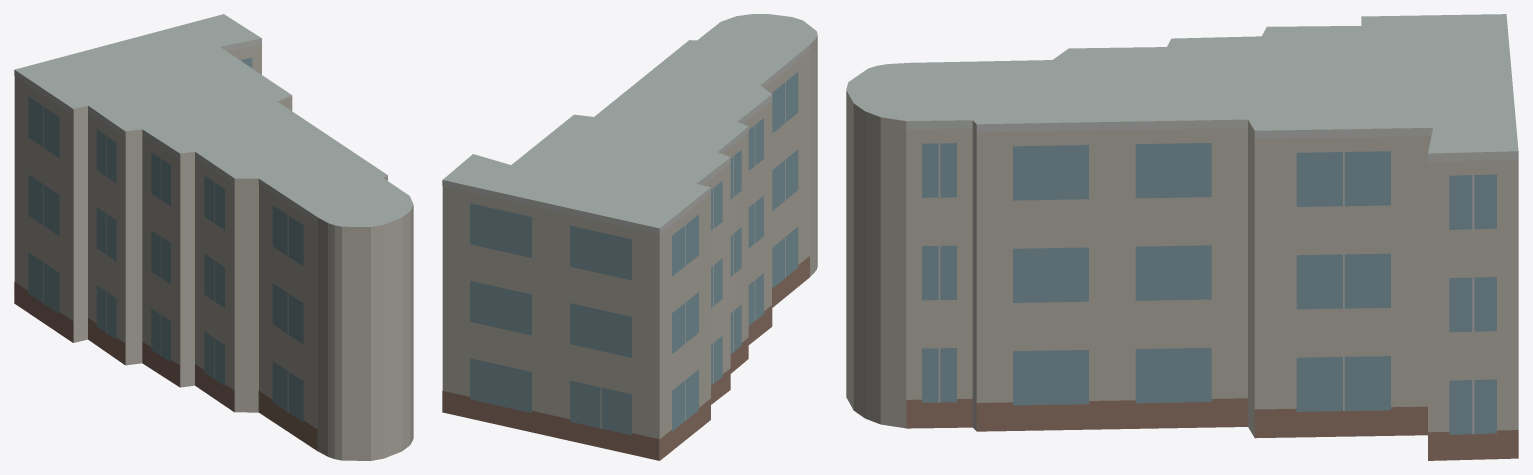
Rendered from survey-upis-32469406.glb.
3 views of the same model, side by side, from view 1: azimuth 30°, elevation 25°; view 2: azimuth 150°, elevation 25°; view 3: azimuth 270°, elevation 25° (orthographic). The views are drawn at different scales.
Parts seen in each view (by area): view 1: survey-upis-32469406.tmp; view 2: survey-upis-32469406.tmp; view 3: survey-upis-32469406.tmp.
Part boxes in pixels (x1,y1,x2,y2): survey-upis-32469406.tmp: (14,14,413,460); survey-upis-32469406.tmp: (442,14,817,460); survey-upis-32469406.tmp: (846,14,1518,460).
Bounding box in the file's own units: 8.92 × 9.15 × 18.15.
